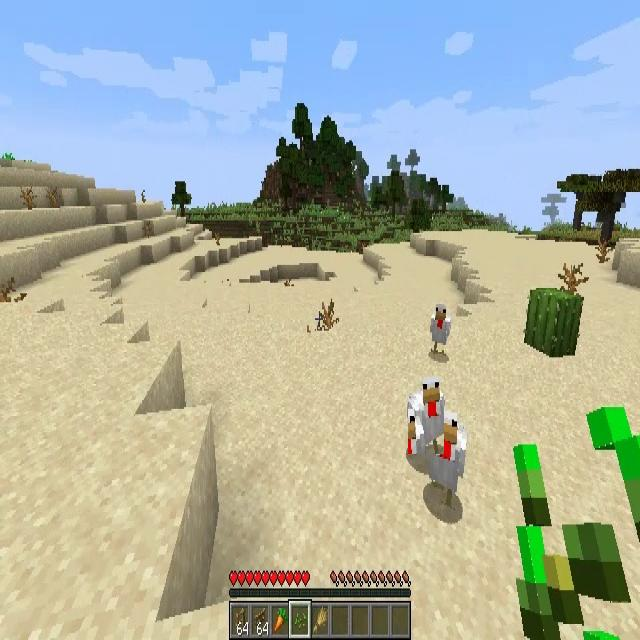duck: (427, 410, 467, 504), (408, 376, 444, 454), (431, 301, 452, 351)
